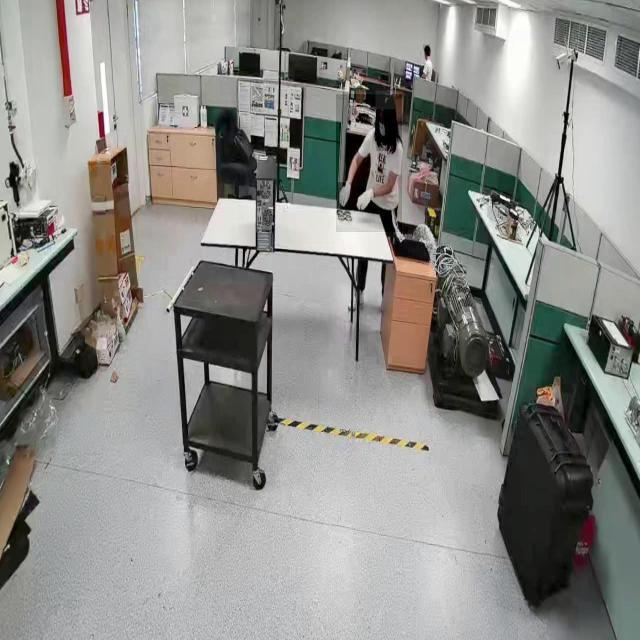face_mask: (376, 111, 390, 151)
hand_glove: (357, 186, 375, 224), (337, 182, 351, 212)
head_nohelmet: (376, 91, 396, 110), (423, 44, 431, 50)
person: (336, 94, 402, 233)
